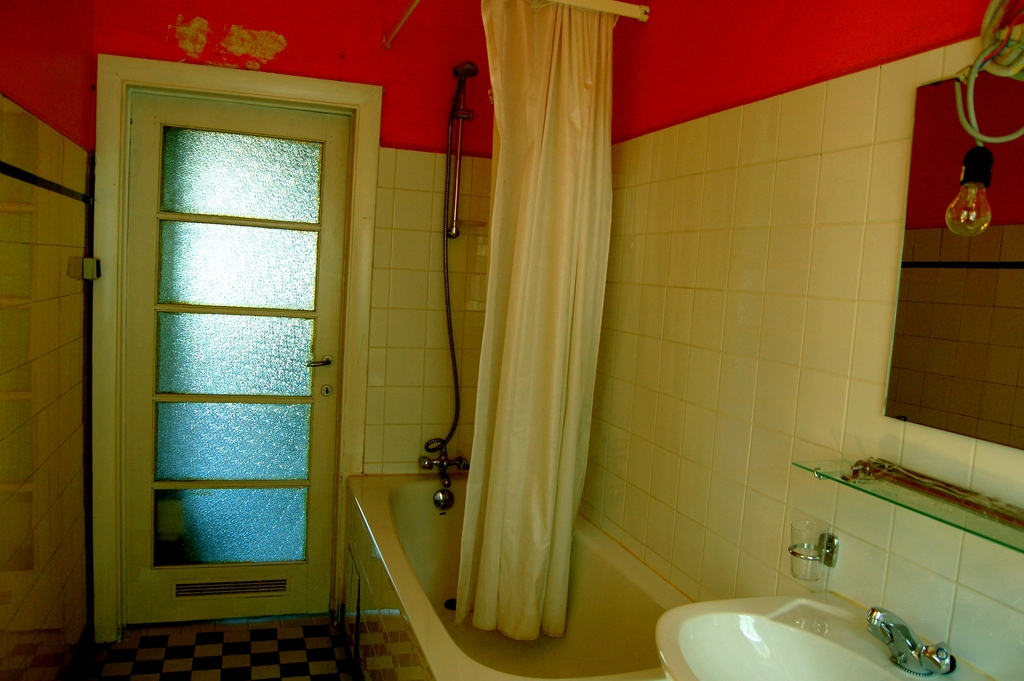tap: (867, 610, 958, 676)
